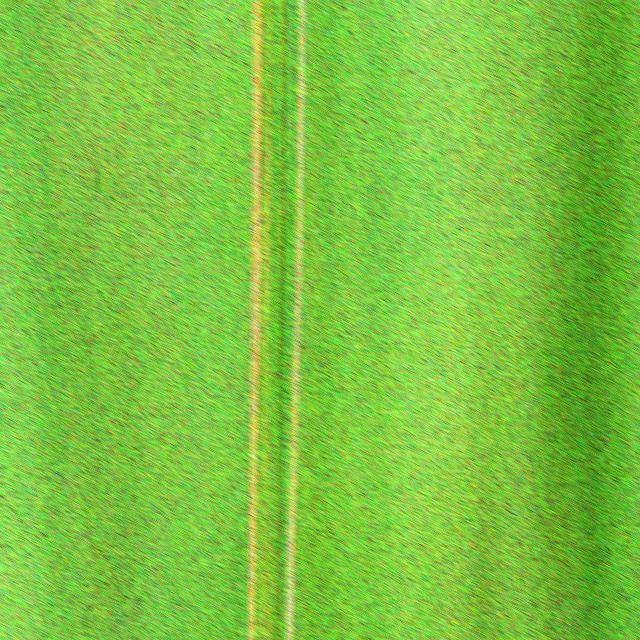BLS: (286, 0, 305, 640), (247, 0, 264, 640), (276, 0, 288, 640), (262, 0, 271, 613), (269, 560, 273, 640)
